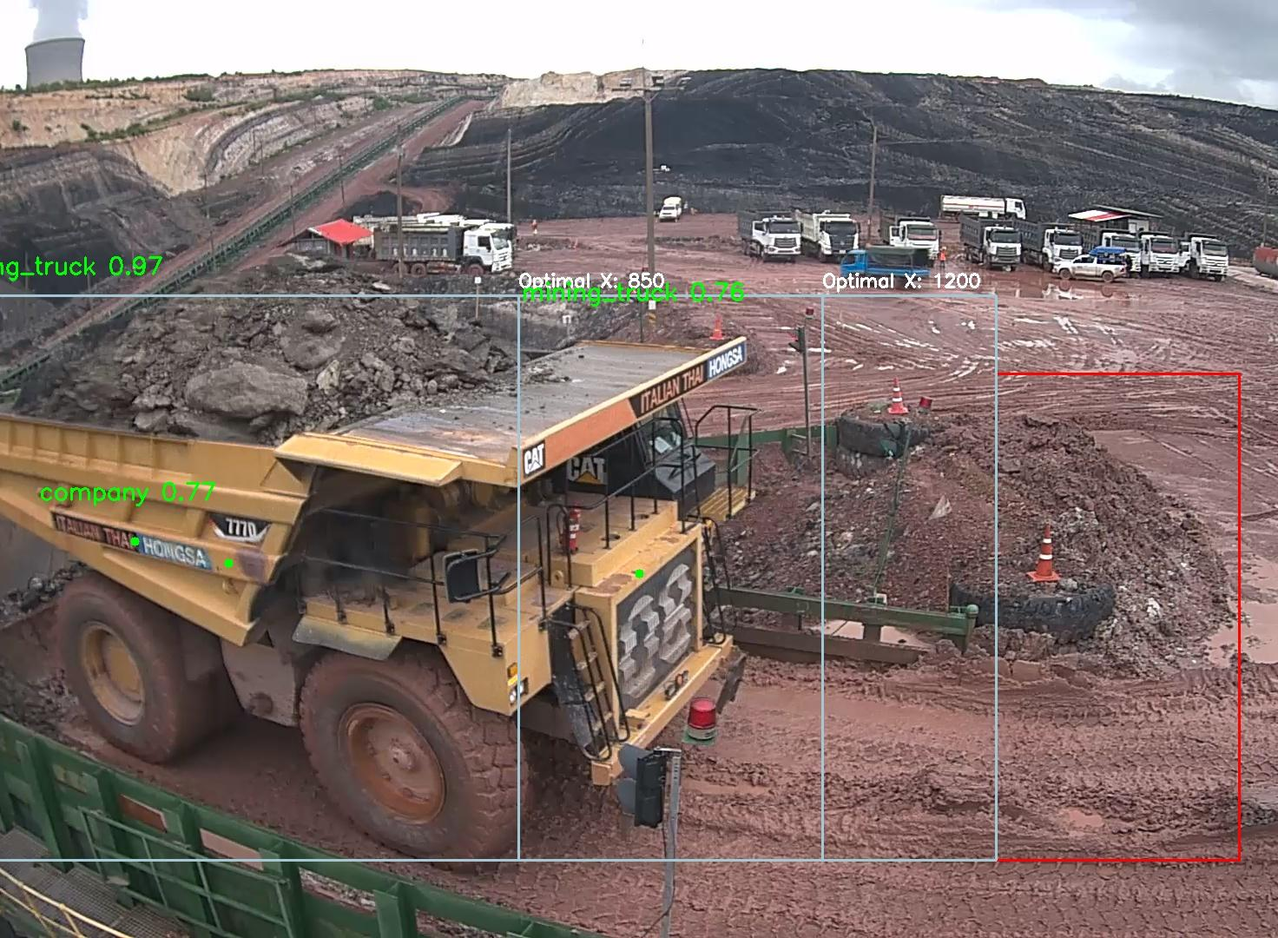company: (43, 504, 215, 579)
full_load: (133, 254, 402, 471)
mining_truck: (9, 243, 767, 872)
truck_size: (205, 501, 269, 545)
